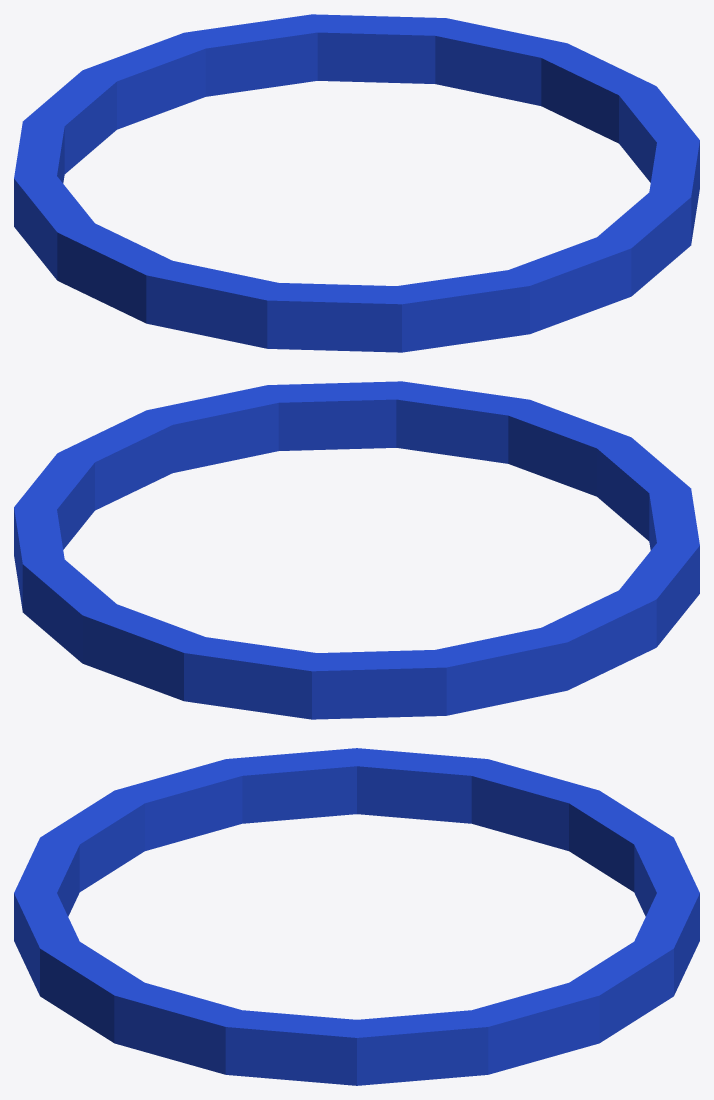
Rendered from ring.fbx.
3 renders of one model, top to bottom at view 1: azimuth 30°, elevation 25°; view 2: azimuth 150°, elevation 25°; view 3: azimuth 270°, elevation 25°, orthographic.
Parts seen in each view (by area): view 1: Circle; view 2: Circle; view 3: Circle.
Part boxes in pixels (x1,y1,x2,y2): Circle: (14, 14, 699, 352); Circle: (14, 381, 699, 719); Circle: (14, 748, 699, 1085).
Bounding box in the file's own units: 200 × 15.41 × 200.
